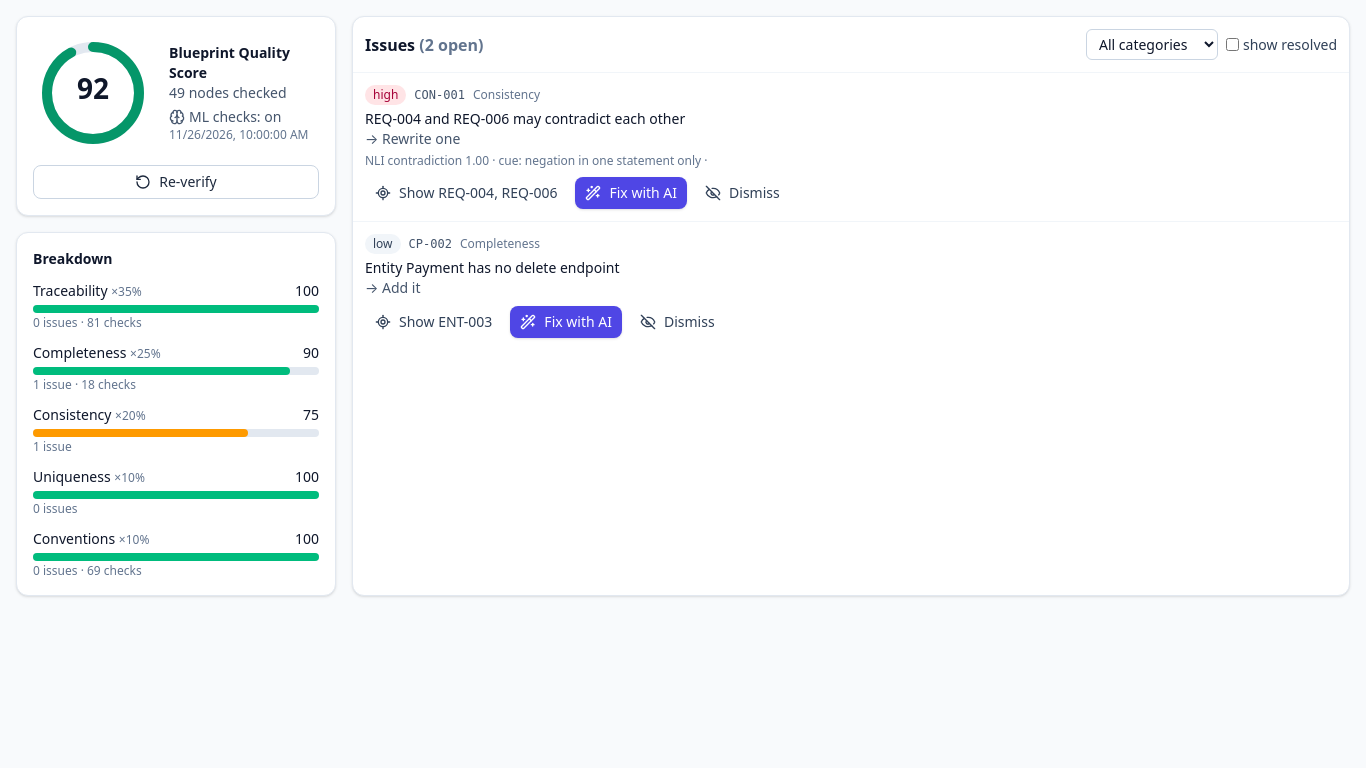
Test case: QualityPanel › shows score, breakdown and open issues with ML evidence
The width and height of the screenshot is (1366, 768).
Expected: the element named "Quality score 92 out of 100" is shown, [33, 33, 153, 153]
Expected: the text "(2 open)" is shown, [419, 34, 483, 56]
Step 1. Click the checkbox labelled "show resolved" → (1232, 44), box [1226, 38, 1239, 51]
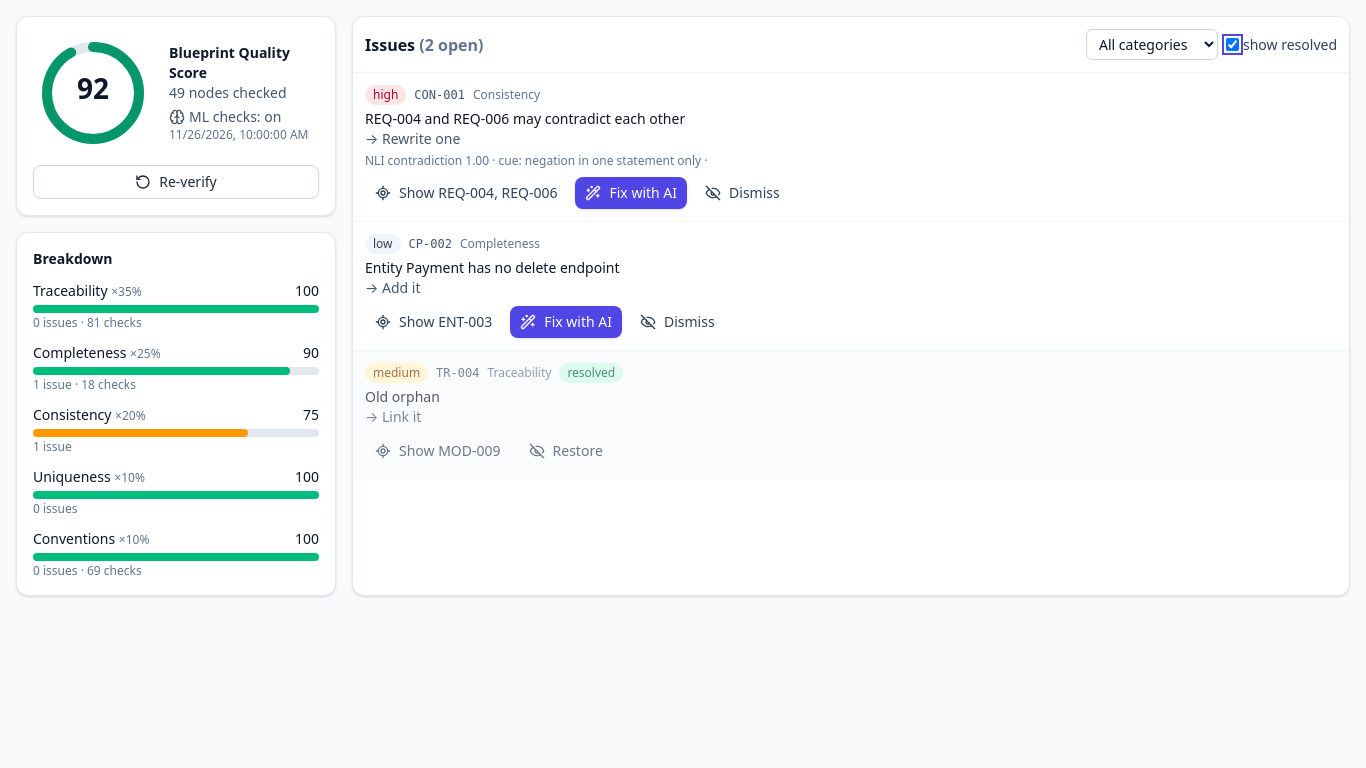
Now the text "Old orphan" is shown, box [365, 387, 440, 406]
